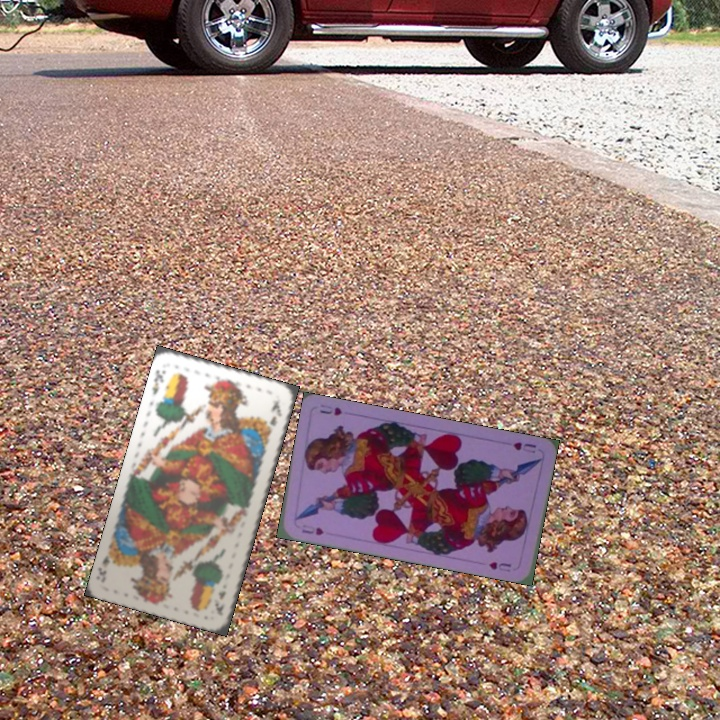EK: (148, 366, 168, 398), (211, 586, 228, 618)
HU: (509, 438, 539, 456), (298, 522, 326, 538)
